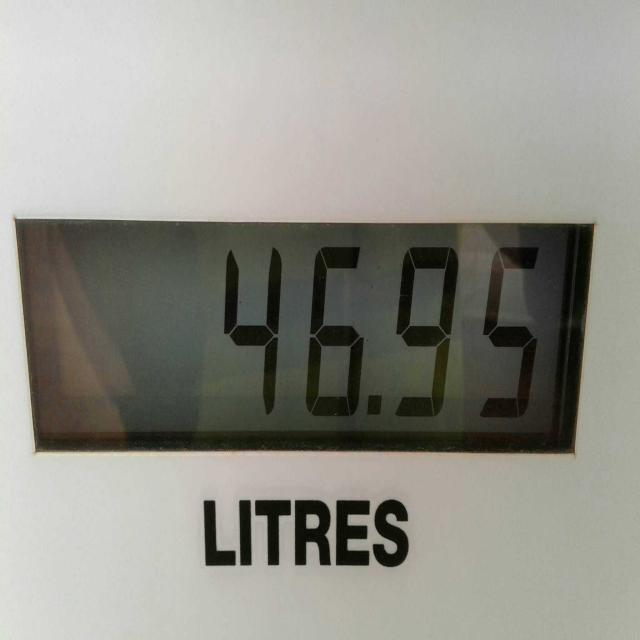.: (356, 375, 386, 440)
4: (216, 242, 301, 419)
6: (300, 242, 371, 420)
